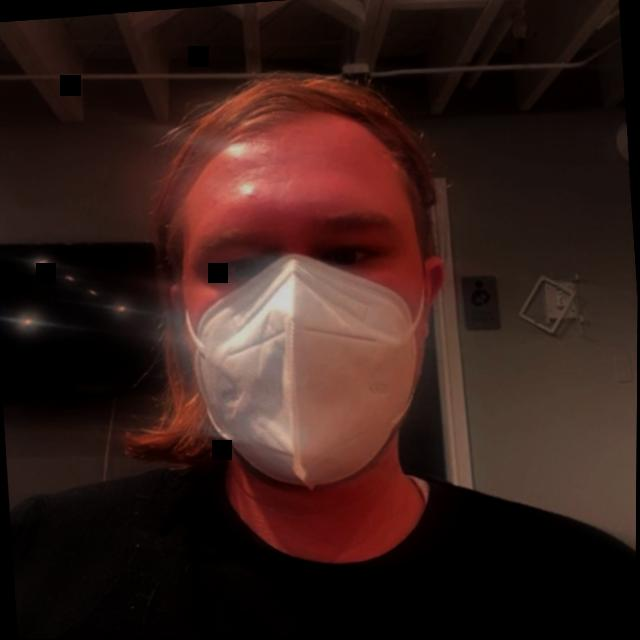Mask: (97, 47, 519, 589)
